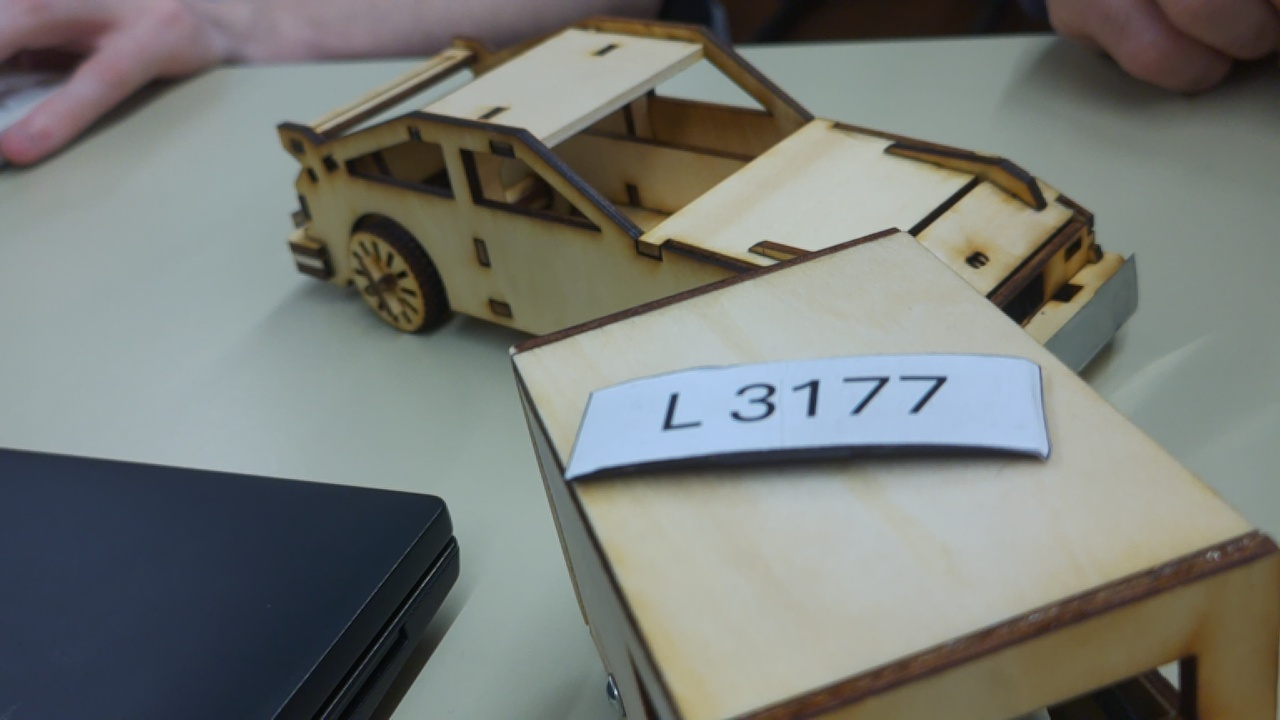license_plate: (551, 349, 1054, 493)
